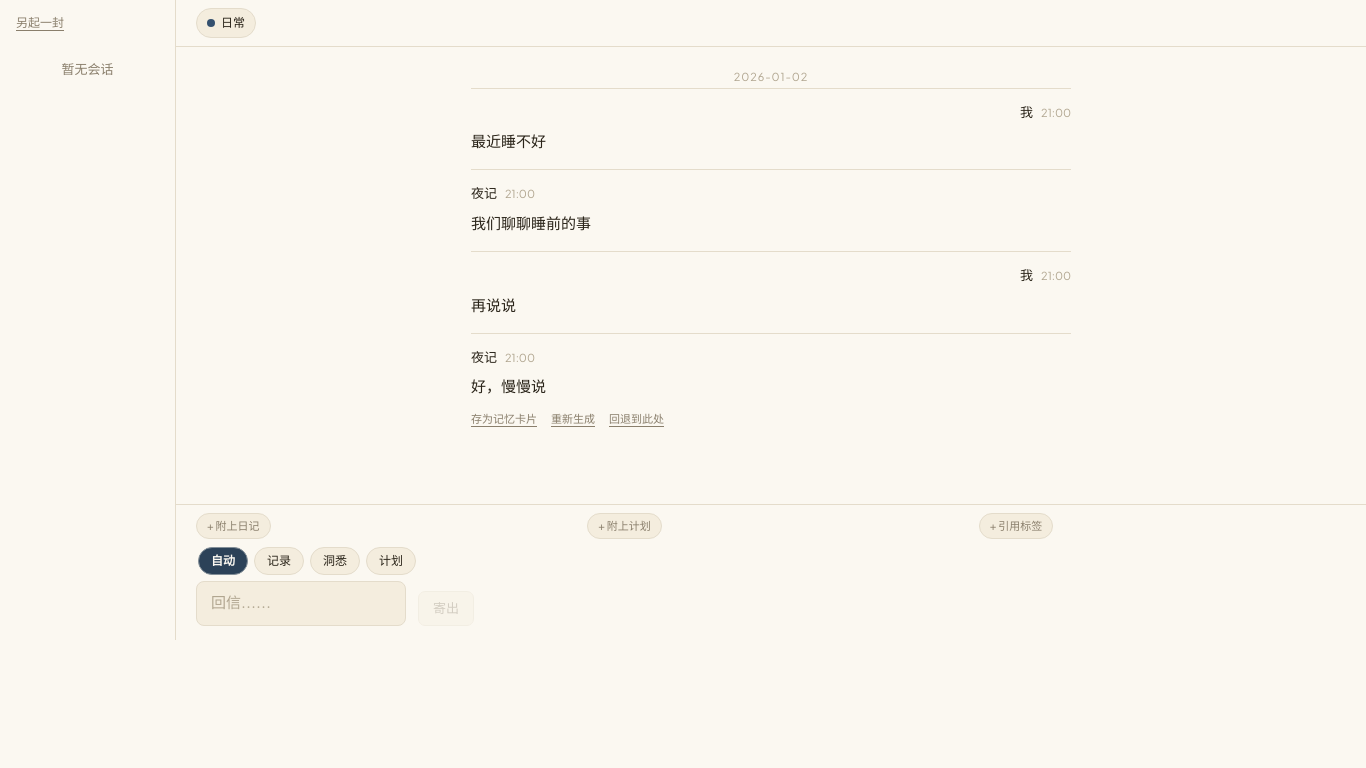
Test: ChatScene › offers a save-as-memory-card link on the latest reply and confirms quietly
Step 1. Click the button with test id "letter-card-link" → (504, 419), box [471,410,537,427]
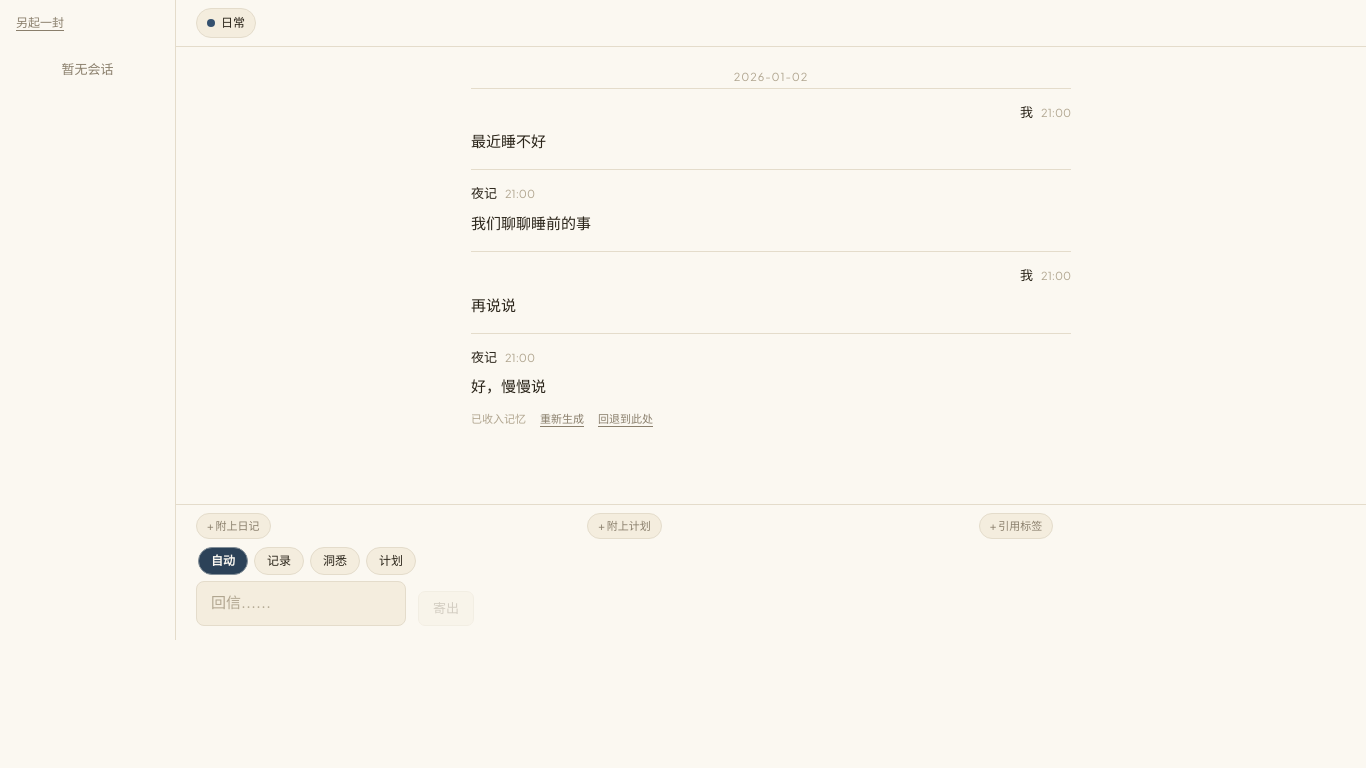
Expected: the text "已收入记忆" is shown, [471,410,526,427]
